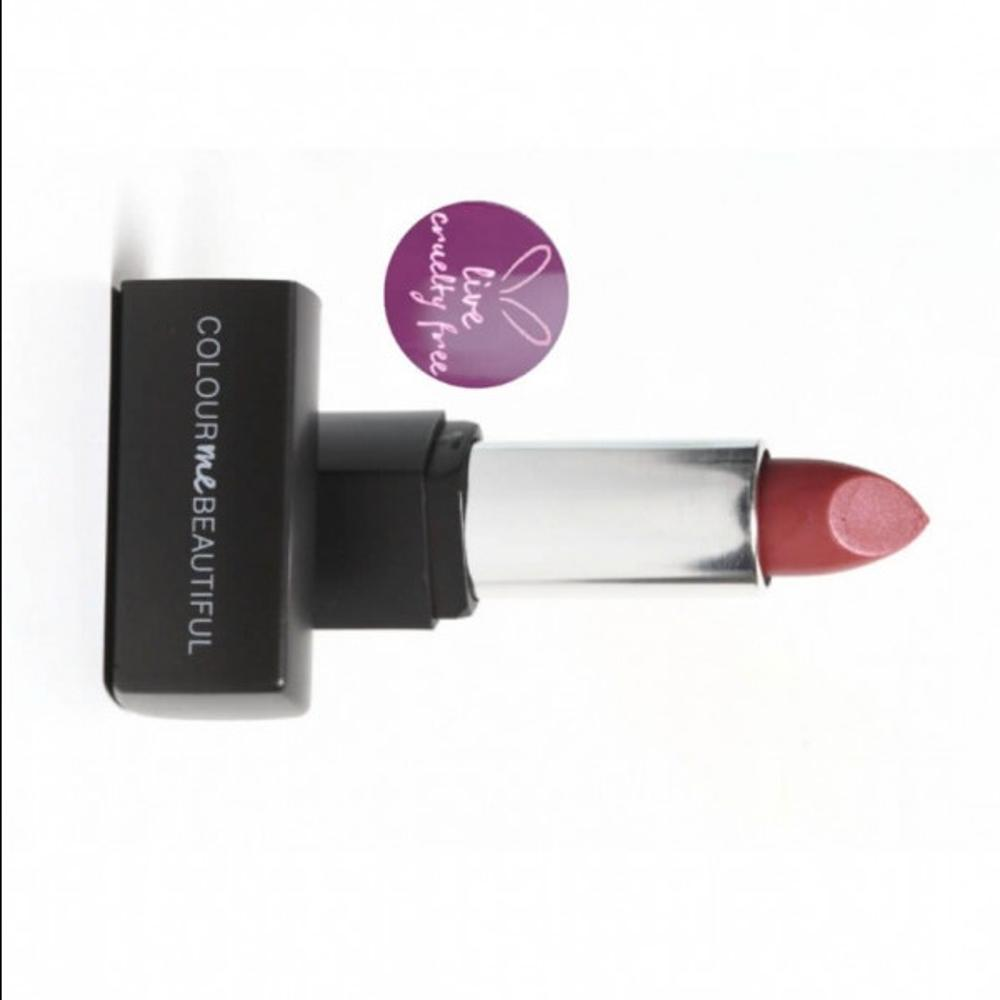lipstick: (31, 244, 932, 713)
